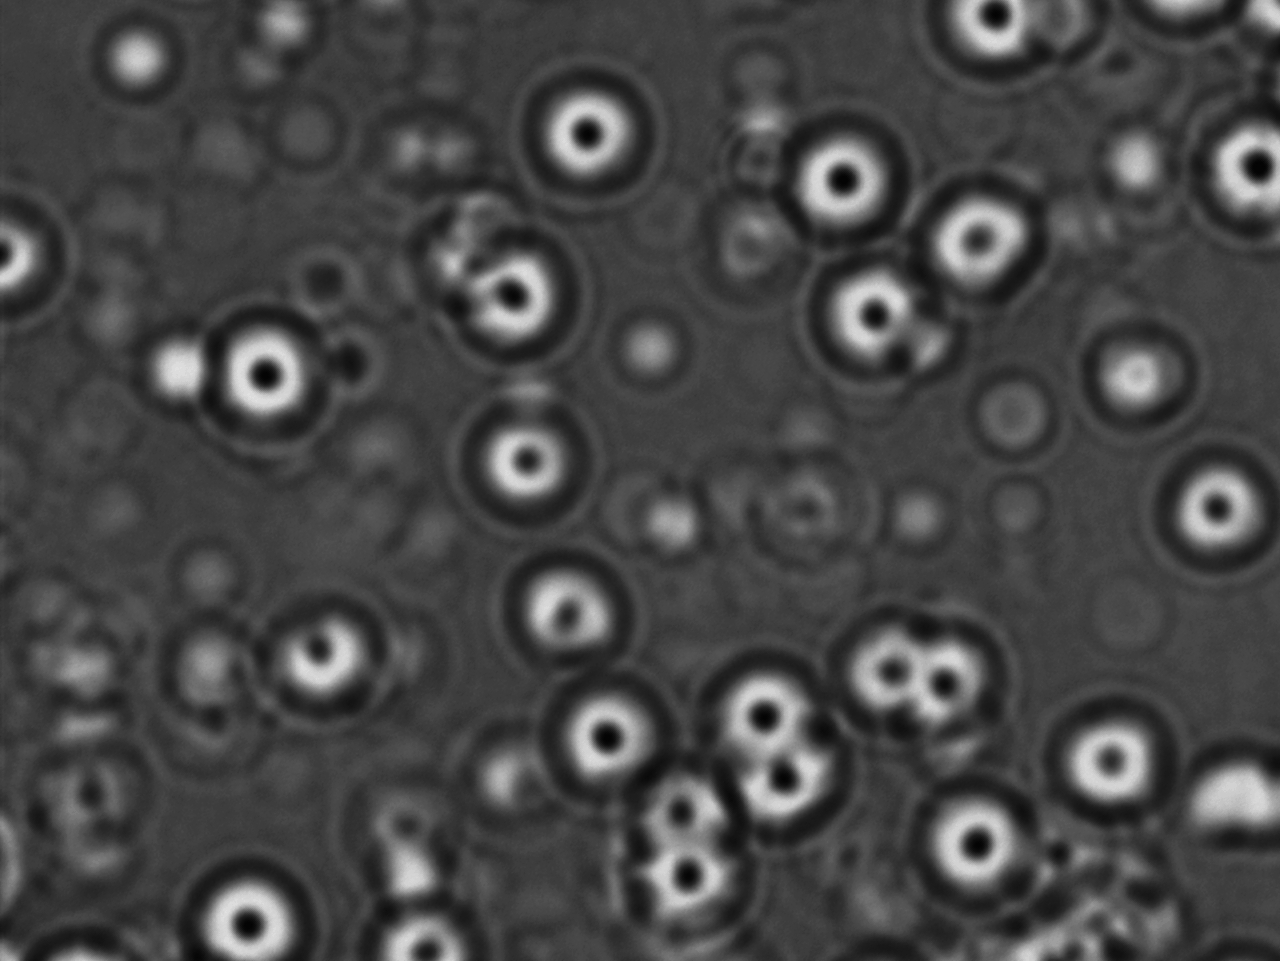depth:24: (517, 61, 659, 201), (769, 103, 910, 245), (797, 241, 929, 377), (499, 547, 628, 680), (202, 310, 323, 441), (457, 406, 586, 522), (459, 233, 575, 359), (266, 596, 387, 714), (545, 679, 670, 792), (893, 618, 1005, 744), (705, 647, 822, 763), (1156, 451, 1272, 566), (915, 178, 1032, 292), (190, 855, 308, 961), (918, 780, 1028, 890), (843, 605, 948, 720), (734, 727, 840, 831), (1197, 118, 1280, 231)
